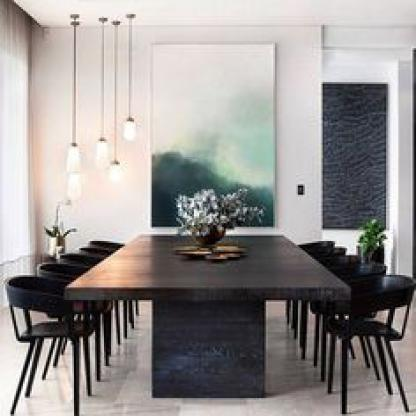table: (60, 228, 355, 402)
